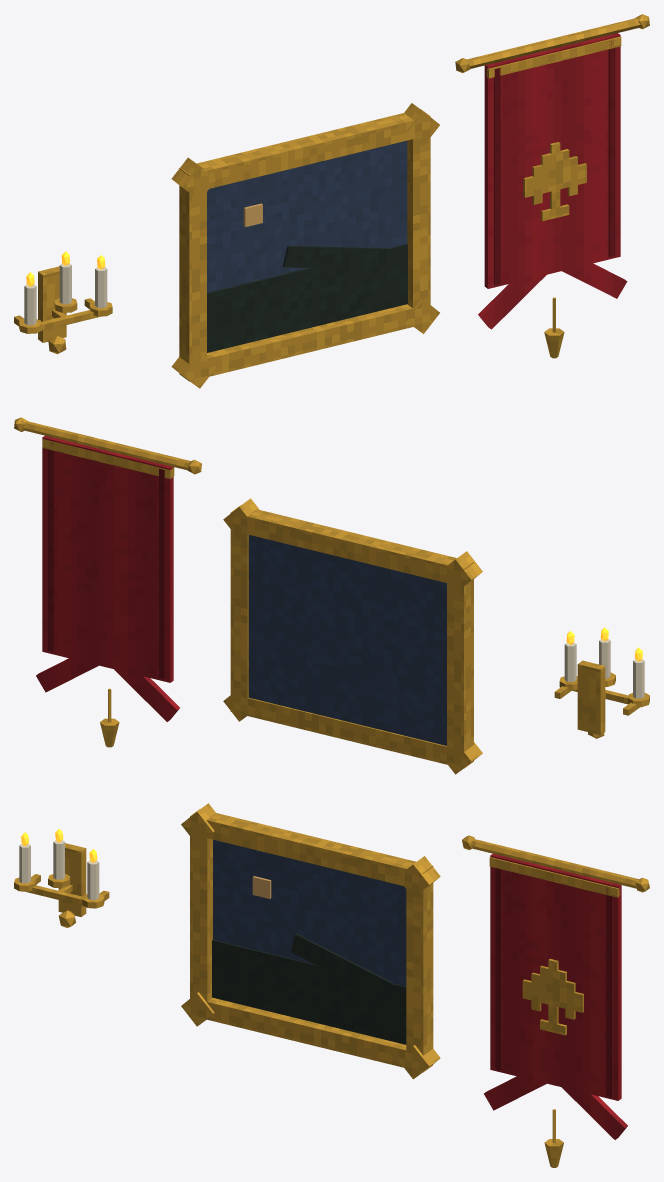
The model's file is wall_decor.glb.
3 renders of one model, top to bottom at view 1: azimuth 30°, elevation 25°; view 2: azimuth 150°, elevation 25°; view 3: azimuth 330°, elevation 25°, orthographic. The views are drawn at different scales.
Visible parts, largest first — view 1: WallDecor; view 2: WallDecor; view 3: WallDecor.
Boxes of the visible parts, x1=… form: WallDecor: x1=14, y1=14, x2=649, y2=388; WallDecor: x1=14, y1=417, x2=649, y2=774; WallDecor: x1=14, y1=803, x2=649, y2=1167.
Size of the model in its own units: 2.18 by 1.04 by 0.1363.
Materials: 8 (5 with a texture image).
